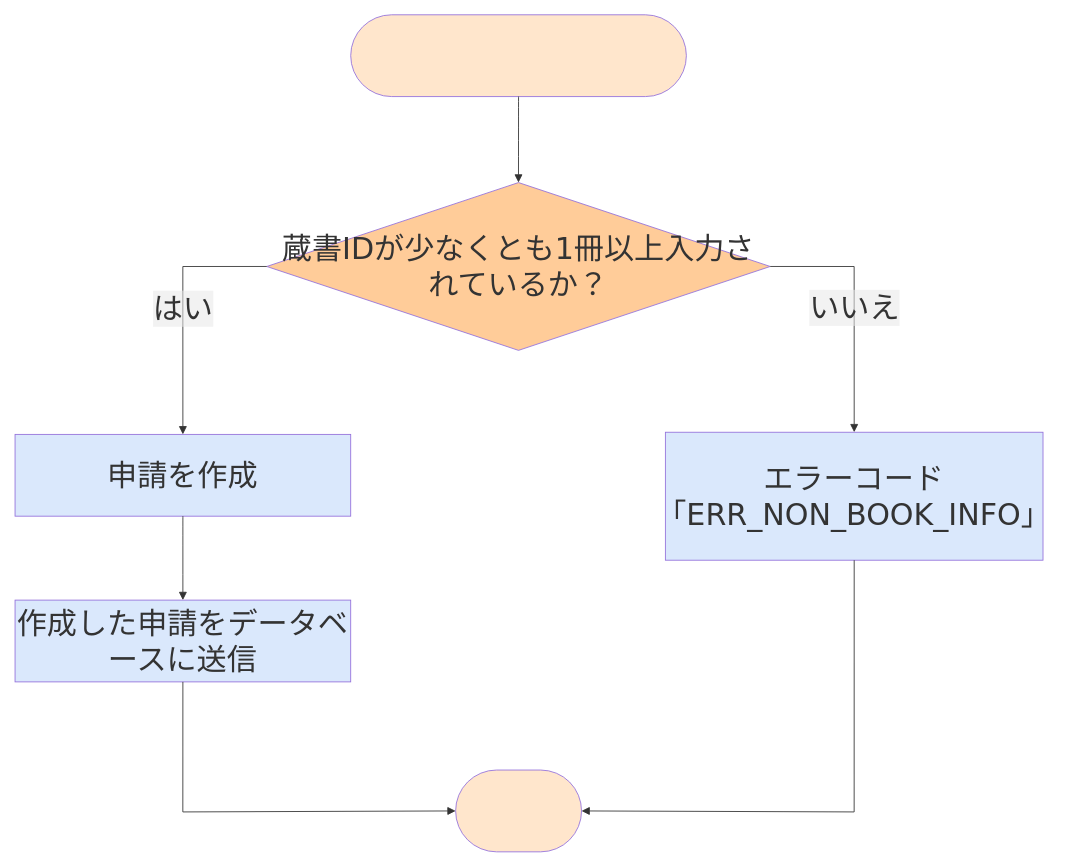
The diagram is 1066 pixels wide and 868 high, and some of its shapes have lost their labels. Here are the shapes that lost their labels. From the top down, the box of each, then its label:
(350, 14, 686, 97): 申請ボタン押下時
(455, 769, 582, 852): 終了
